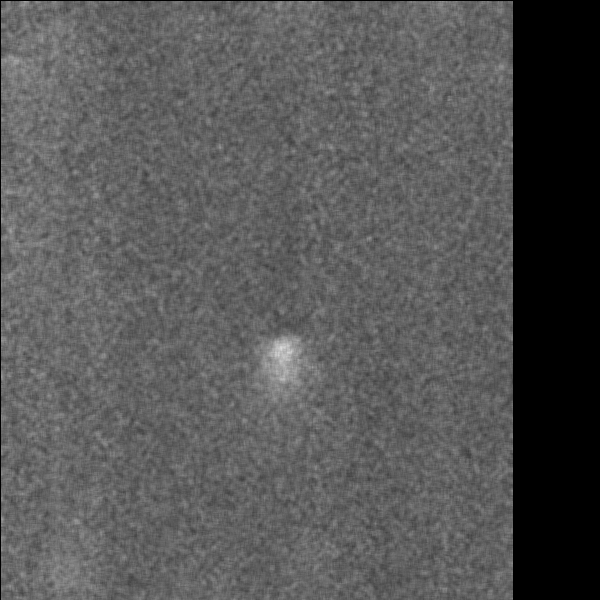spark: (261, 328, 303, 455)
